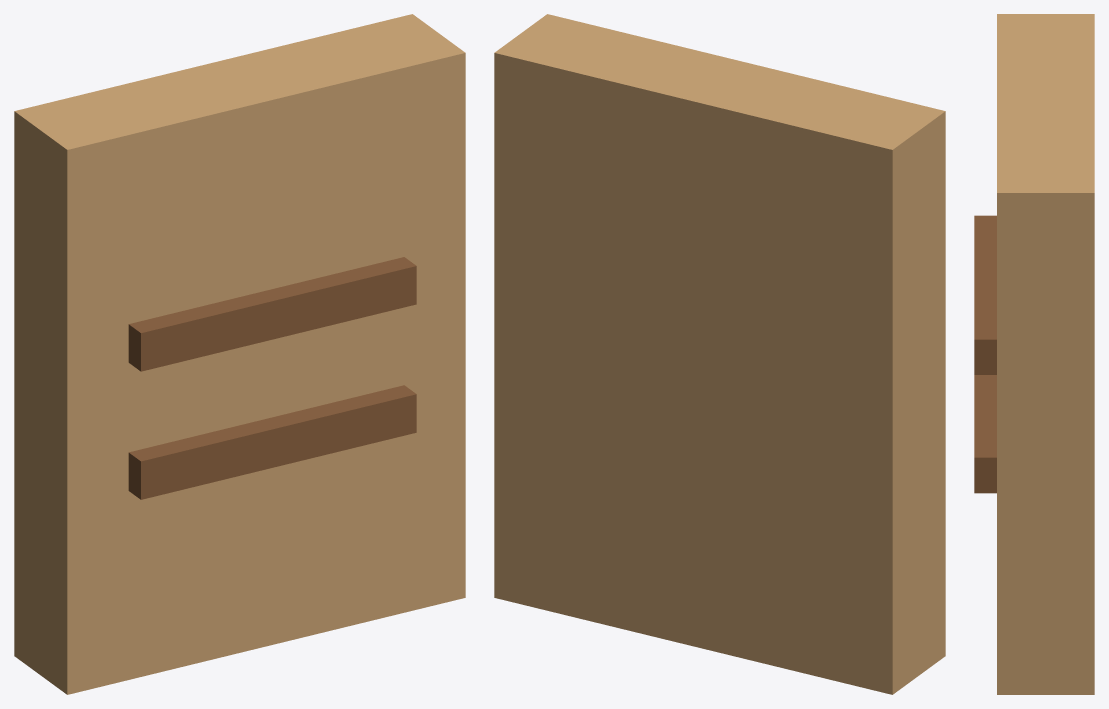
The model's file is tool_tablet.glb.
3 renders of one model, left to right at view 1: azimuth 30°, elevation 25°; view 2: azimuth 150°, elevation 25°; view 3: azimuth 270°, elevation 25°, orthographic. The views are drawn at different scales.
Visible parts, largest first — view 1: part, part.001, part.002; view 2: part; view 3: part, part.001, part.002.
Part boxes in pixels (left/top/right/bottom): part: left=14, top=14, right=465, bottom=694; part.001: left=128, top=257, right=416, bottom=371; part.002: left=128, top=385, right=416, bottom=499; part: left=494, top=14, right=945, bottom=694; part: left=997, top=14, right=1094, bottom=694; part.001: left=974, top=215, right=996, bottom=374; part.002: left=974, top=375, right=996, bottom=493.
Bounding box in the file's own units: 0.13 × 0.17 × 0.037.
